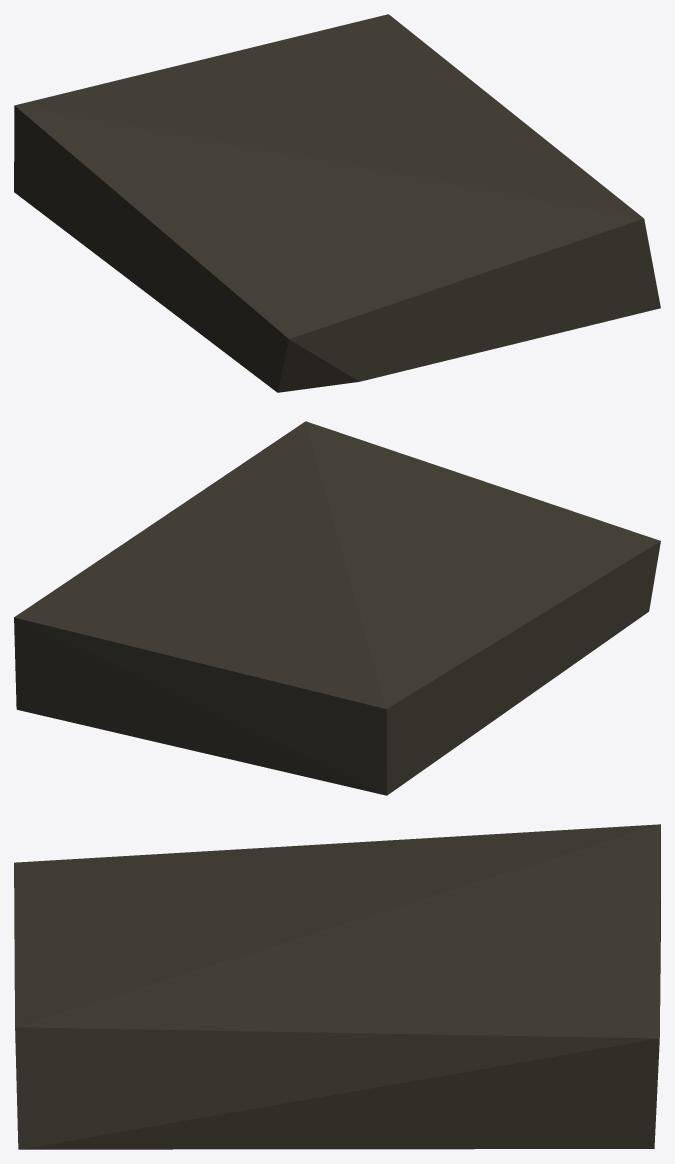
File: Brick_Single_2_LOD.fbx
3 views of the same model, one above another, from view 1: azimuth 30°, elevation 25°; view 2: azimuth 150°, elevation 25°; view 3: azimuth 270°, elevation 25° (orthographic). The views are drawn at different scales.
Parts seen in each view (by area): view 1: Group40266; view 2: Group40266; view 3: Group40266.
Part boxes in pixels (<box>): Group40266: <box>14,14,660,392</box>; Group40266: <box>14,421,660,795</box>; Group40266: <box>14,824,660,1149</box>.
Bounding box in the file's own units: 1.81 × 0.4431 × 2.3.
